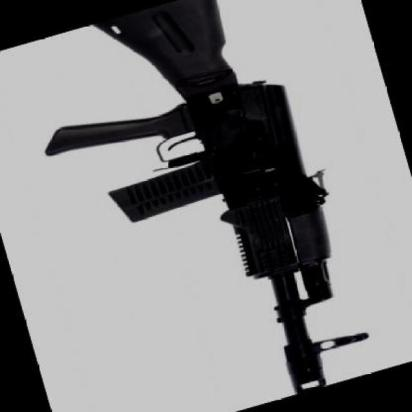Gun: (16, 0, 412, 412)
